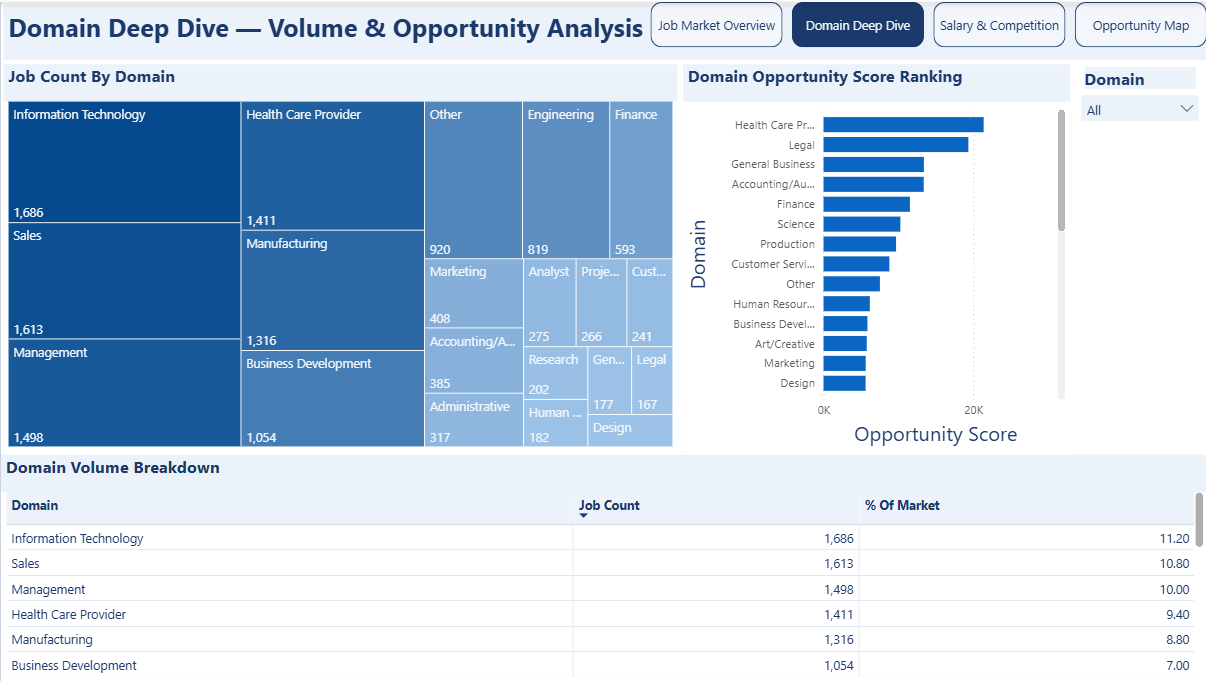

Layout of this report page (visuals, bound fields, positions):
{"tool":"powerbi","page":{"name":"Domain Deep Dive","canvas":[1280,720],"ordinal":1},"visuals":[{"type":"textbox","box":[0,0,1280,64],"z":0},{"type":"clusteredBarChart","title":"Domain Opportunity Score Ranking","fields":{"Category":["q8_opportunity_score.domain"],"Y":["Sum(q8_opportunity_score.opportunity_score)"]},"box":[720,64,416,416],"z":1000},{"type":"tableEx","title":"Domain Volume Breakdown","fields":{"Values":["q1_domain_demand.domain","q1_domain_demand.job_count","q1_domain_demand.pct_of_market"]},"box":[0,480,1280,240],"z":2000},{"type":"slicer","fields":{"Values":["q1_domain_demand.domain"]},"box":[1136,64,144,416],"z":3000},{"type":"pageNavigator","box":[688,0,592,48],"z":4000},{"type":"treemap","title":"Job Count By Domain","fields":{"Group":["q1_domain_demand.domain"],"Values":["Sum(q1_domain_demand.job_count)"]},"box":[0,64,720,416],"z":5000}]}

Visuals, with their boxes in screenshot pixels (x1, y1, x2, y2), scaled from the page's 1280x720 canvas onto the 1206x681 screenshot:
textbox: crop(0, 0, 1205, 61)
"Domain Opportunity Score Ranking" clusteredBarChart: crop(678, 61, 1070, 454)
"Domain Volume Breakdown" tableEx: crop(0, 454, 1205, 680)
slicer - q1_domain_demand.domain: crop(1070, 61, 1205, 454)
pageNavigator: crop(648, 0, 1205, 45)
"Job Count By Domain" treemap: crop(0, 61, 678, 454)
